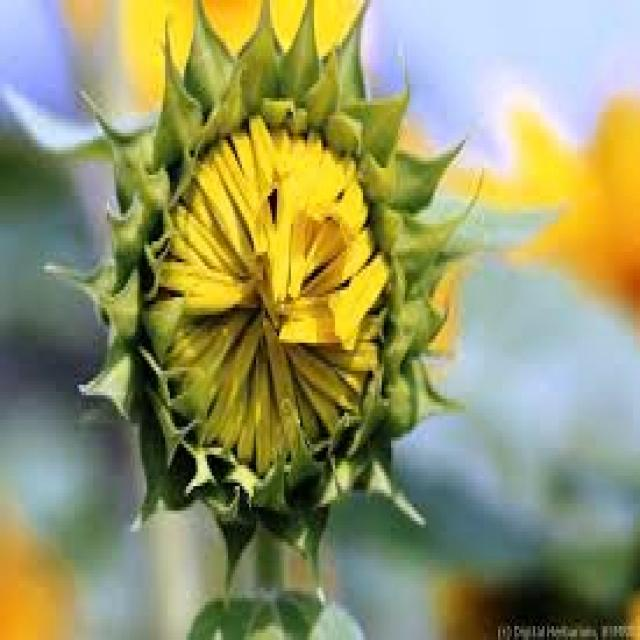Unbloomed: (151, 116, 390, 472)
